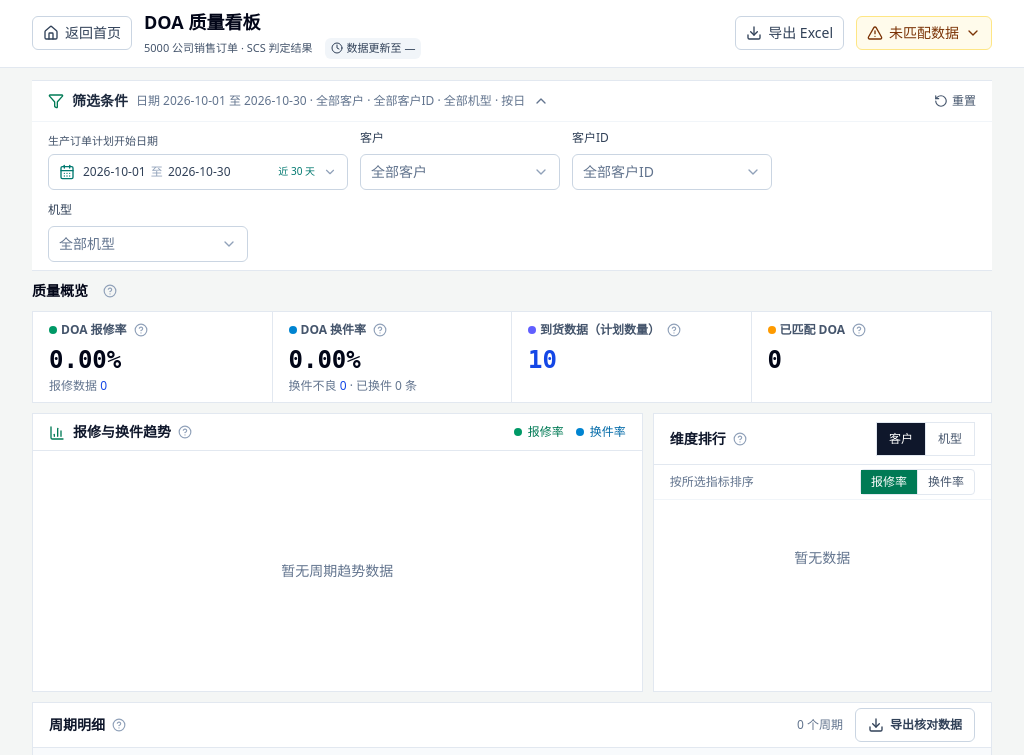
Scenario: DoaPage › does not export when the current details no longer match the dashboard
Expected: the text "到货数据（计划数量）" is shown, [528,320,684,340]
Click the button "导出 Excel" at (790, 33), box [735,16,844,50]
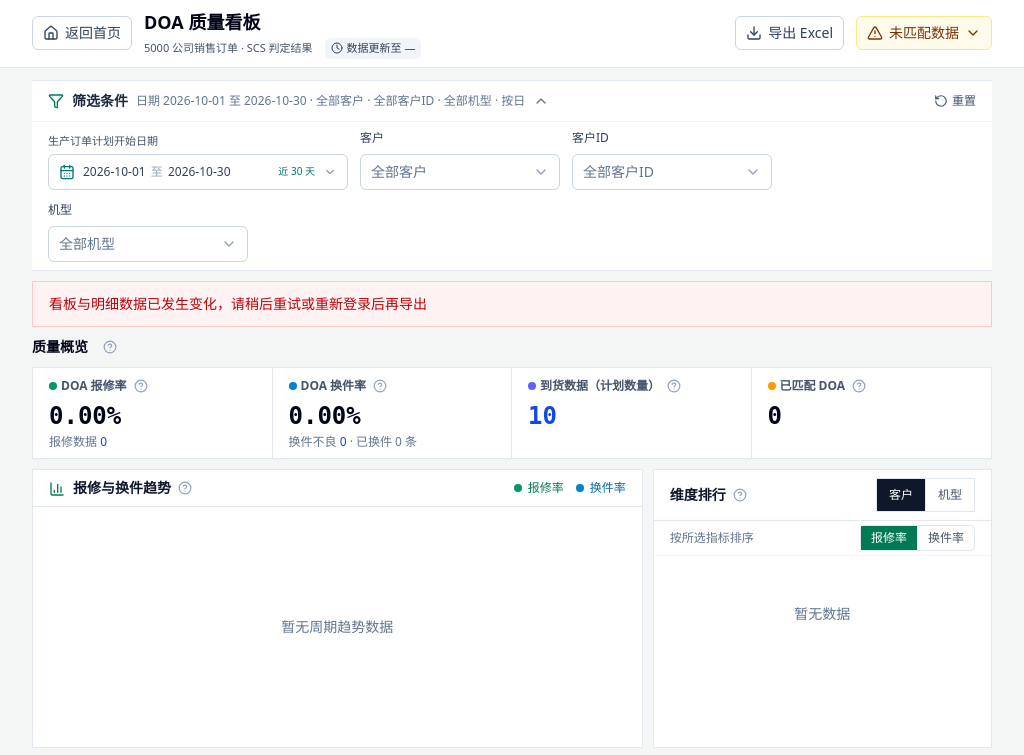
Result: the message shows "看板与明细数据已发生变化" at [49,294,427,312]
